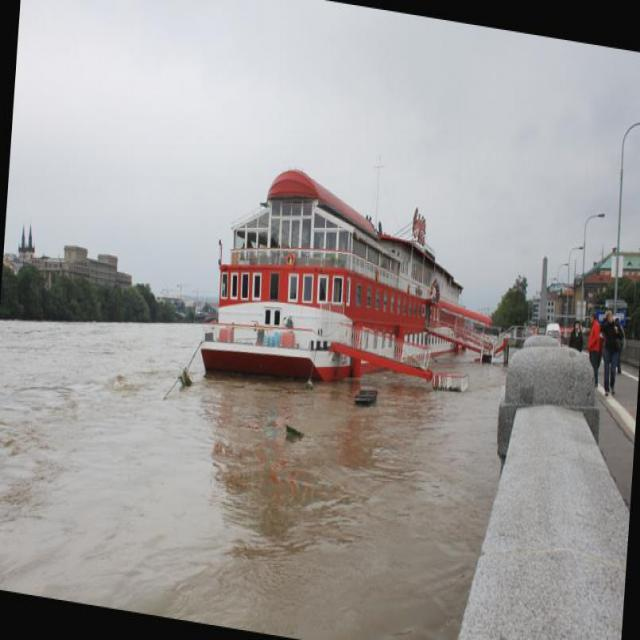flood: (0, 279, 501, 639)
